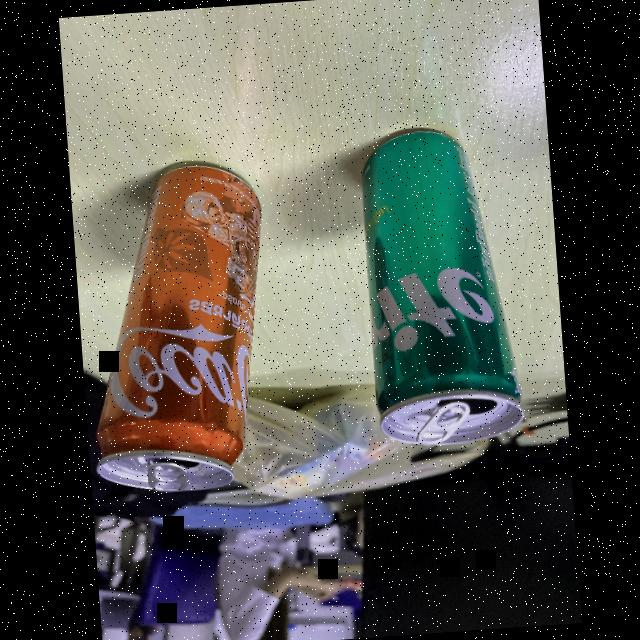can: (69, 152, 295, 498), (332, 102, 536, 460)
